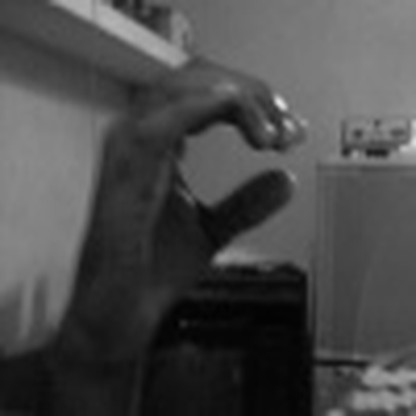c: (89, 54, 314, 288)
